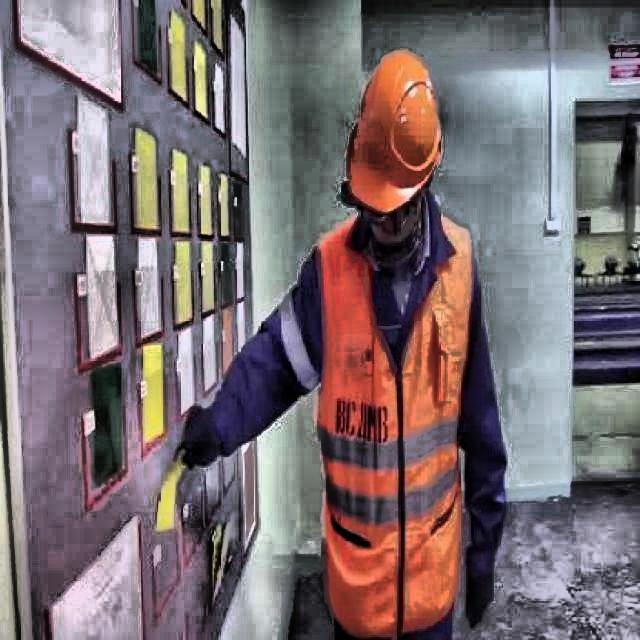safety_jacket: (311, 220, 472, 640)
